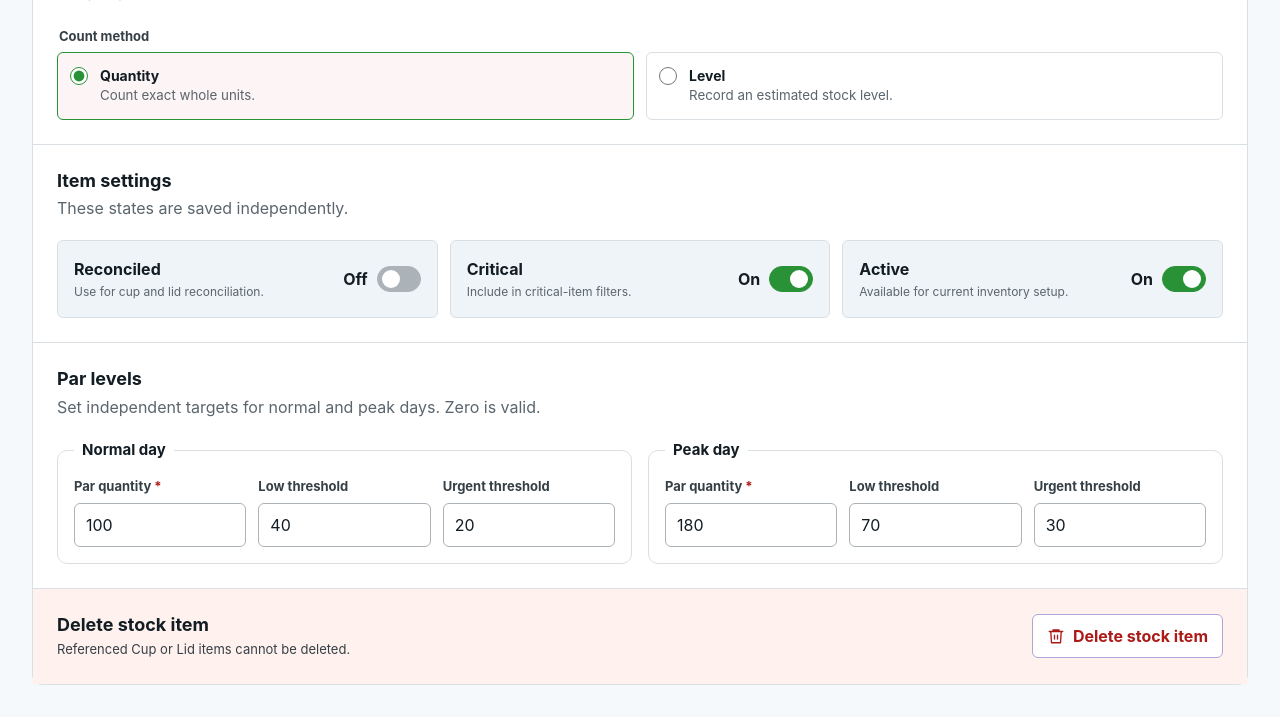
Test: inventory management pages › re-presents the selected count method before save and restores draft values
(page scrolled)
Replace the text in the field labelled "Par quantity *" below "Normal day" with "125" at coordinates (160, 525), box [74, 503, 246, 547]
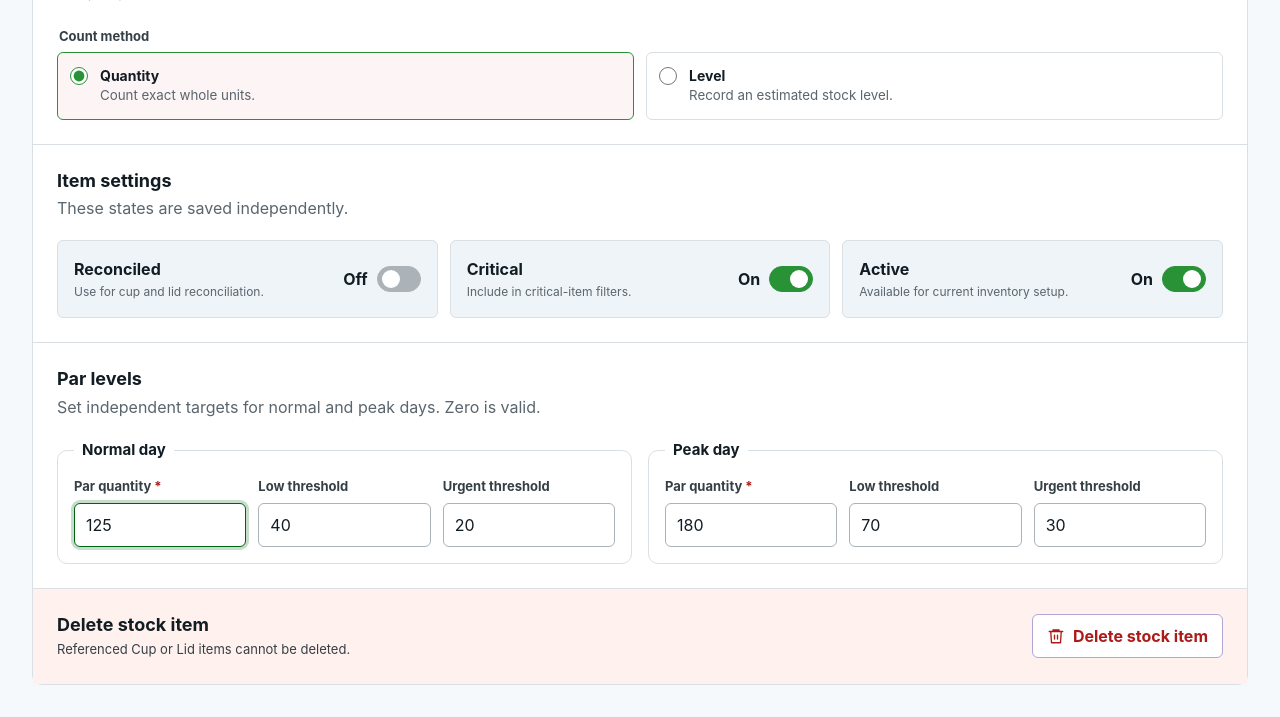
Click the radio button labelled "Level Record an estimated stock level." at coordinates (668, 76), box [659, 67, 677, 85]
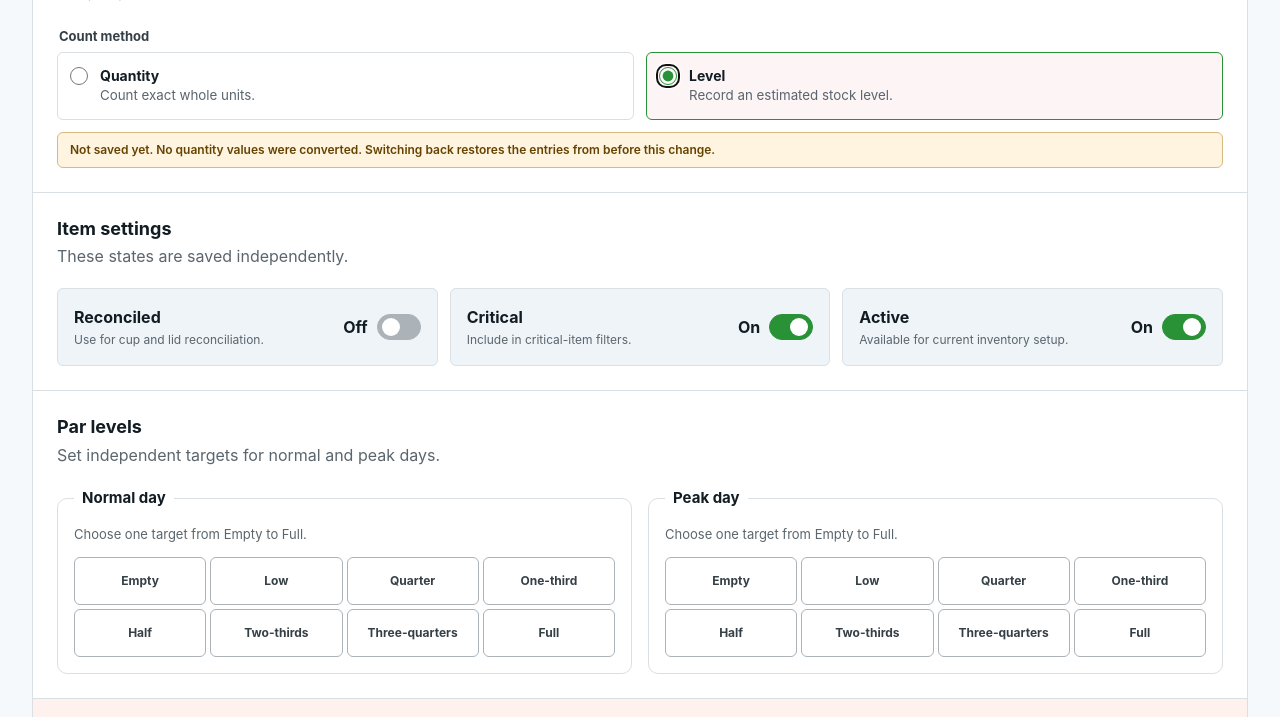
Now the label labelled "Par quantity" is gone
Now the text "No quantity values were converted" is shown, box [70, 142, 715, 157]
Click the radio button labelled "Quantity Count exact whole units." at coordinates (79, 76), box [70, 67, 88, 85]
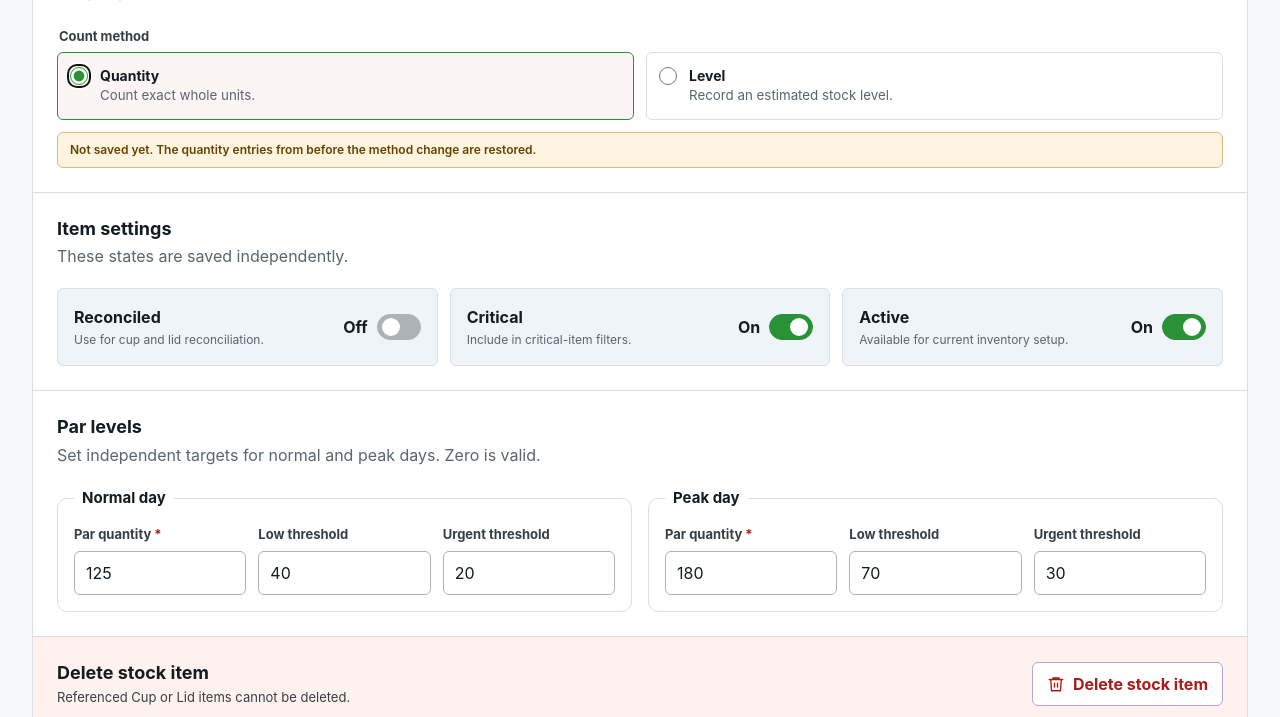
Now the field labelled "Par quantity *" below "Normal day" holds "125", box [74, 551, 246, 595]
